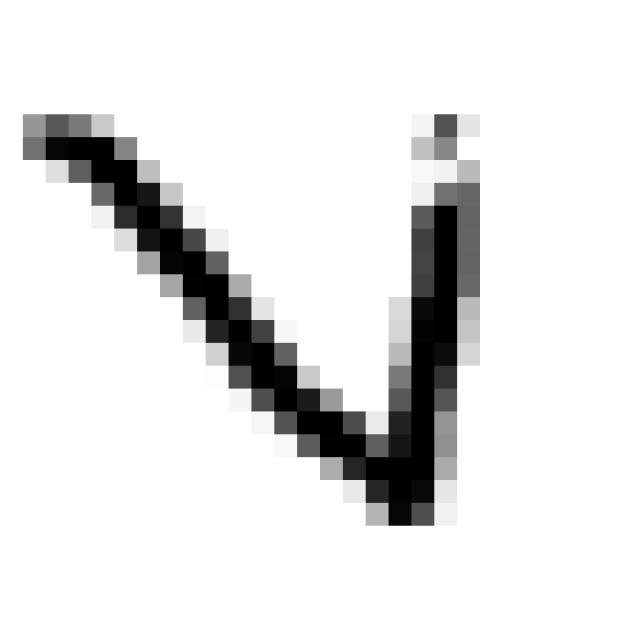7 -seven-: (7, 96, 500, 544)
